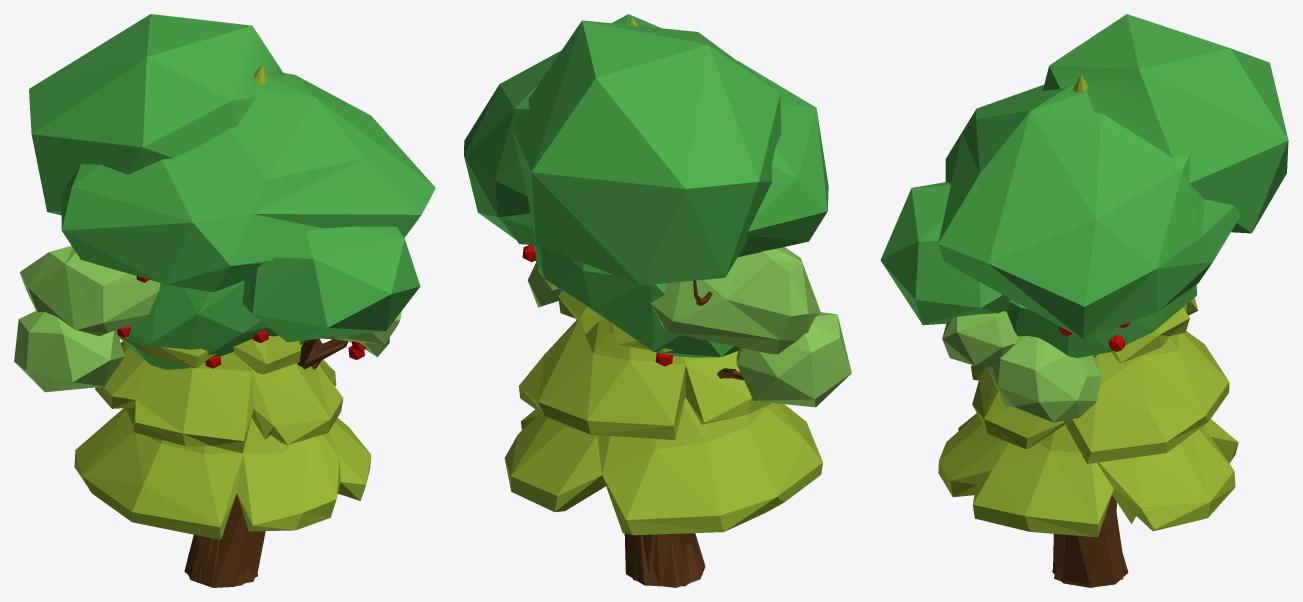
File: Trees_Low_poly.fbx
The picture shows the model from 3 angles, left to right: view 1: azimuth 30°, elevation 25°; view 2: azimuth 150°, elevation 25°; view 3: azimuth 270°, elevation 25°; orthographic projection. The views are drawn at different scales.
Visible parts, largest first — view 1: Lowpoly_Tree_06_Material_0.001, Lowpoly_Tree_15_Material_0.001, Lowpoly_Tree_07_Material_0.001, Lowpoly_Tree_04_Material_0.001; view 2: Lowpoly_Tree_15_Material_0.001, Lowpoly_Tree_07_Material_0.001, Lowpoly_Tree_06_Material_0.001, Lowpoly_Tree_04_Material_0.001; view 3: Lowpoly_Tree_06_Material_0.001, Lowpoly_Tree_07_Material_0.001, Lowpoly_Tree_15_Material_0.001, Lowpoly_Tree_04_Material_0.001.
Part boxes in pixels (x1=…): Lowpoly_Tree_06_Material_0.001: x1=19, y1=73, x2=435, y2=587; Lowpoly_Tree_15_Material_0.001: x1=14, y1=14, x2=420, y2=582; Lowpoly_Tree_07_Material_0.001: x1=74, y1=64, x2=371, y2=587; Lowpoly_Tree_04_Material_0.001: x1=117, y1=280, x2=278, y2=570; Lowpoly_Tree_15_Material_0.001: x1=512, y1=20, x2=851, y2=586; Lowpoly_Tree_07_Material_0.001: x1=504, y1=17, x2=822, y2=587; Lowpoly_Tree_06_Material_0.001: x1=464, y1=14, x2=828, y2=586; Lowpoly_Tree_04_Material_0.001: x1=522, y1=245, x2=739, y2=558; Lowpoly_Tree_06_Material_0.001: x1=938, y1=85, x2=1240, y2=586; Lowpoly_Tree_07_Material_0.001: x1=938, y1=74, x2=1238, y2=587; Lowpoly_Tree_15_Material_0.001: x1=880, y1=14, x2=1288, y2=584; Lowpoly_Tree_04_Material_0.001: x1=1006, y1=285, x2=1196, y2=511.
Size of the model in its own units: 146 by 192 by 134.
1 material, 1 textured.
